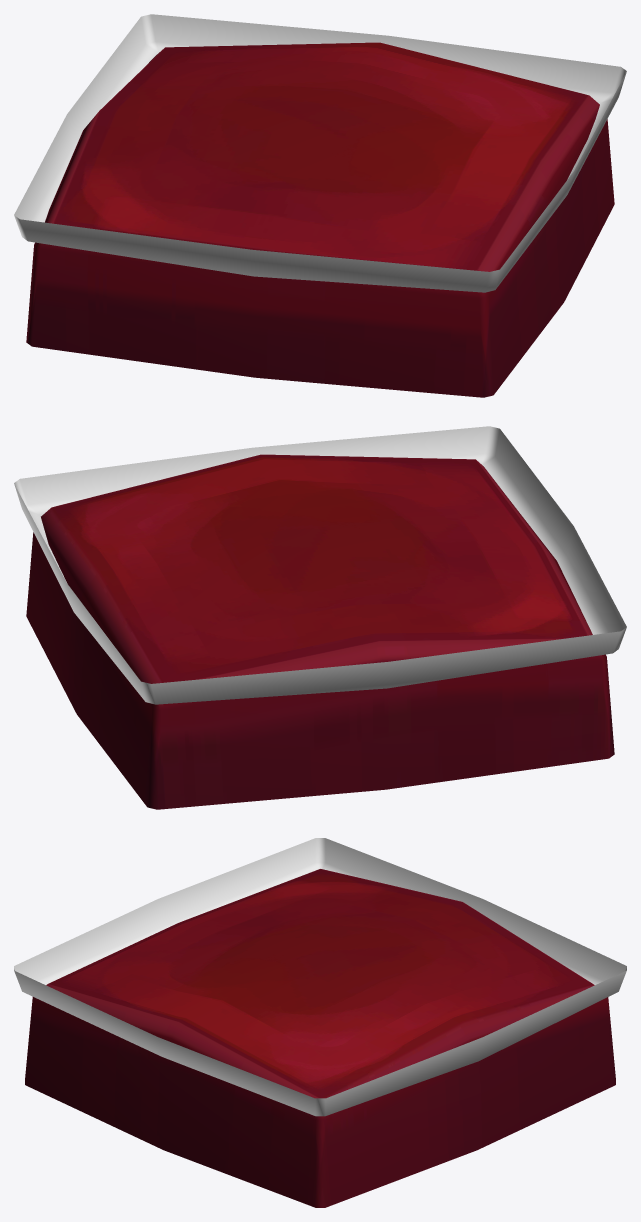
The model's file is simonbutton-left.fbx.
3 views of the same model, one above another, from view 1: azimuth 30°, elevation 25°; view 2: azimuth 150°, elevation 25°; view 3: azimuth 270°, elevation 25° (orthographic). The views are drawn at different scales.
Visible parts, largest first — view 1: button, button_left_highlight; view 2: button, button_left_highlight; view 3: button, button_left_highlight.
Boxes of the visible parts, x1=… form: button: x1=26, y1=42, x2=614, y2=397; button_left_highlight: x1=14, y1=14, x2=626, y2=292; button: x1=26, y1=454, x2=614, y2=809; button_left_highlight: x1=14, y1=426, x2=626, y2=704; button: x1=25, y1=869, x2=615, y2=1207; button_left_highlight: x1=14, y1=838, x2=626, y2=1116.
Bounding box in the file's own units: 0.0767 × 0.0181 × 0.0763.
1 material, 1 textured.
